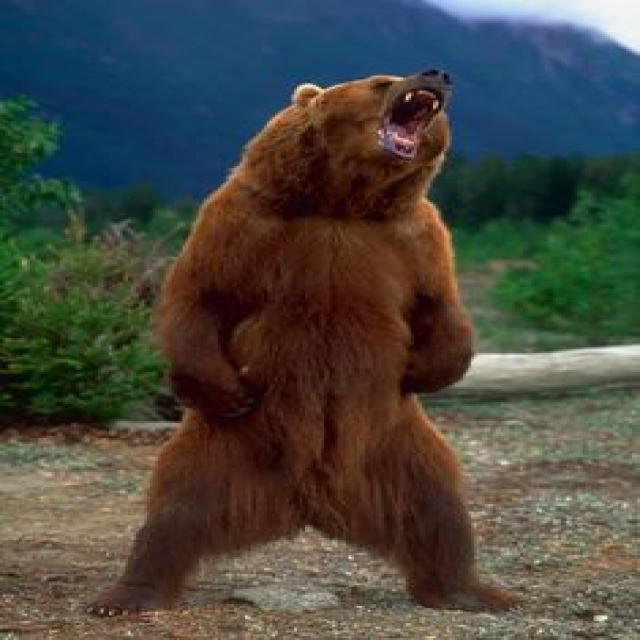Carnivorous: (90, 68, 520, 617)
